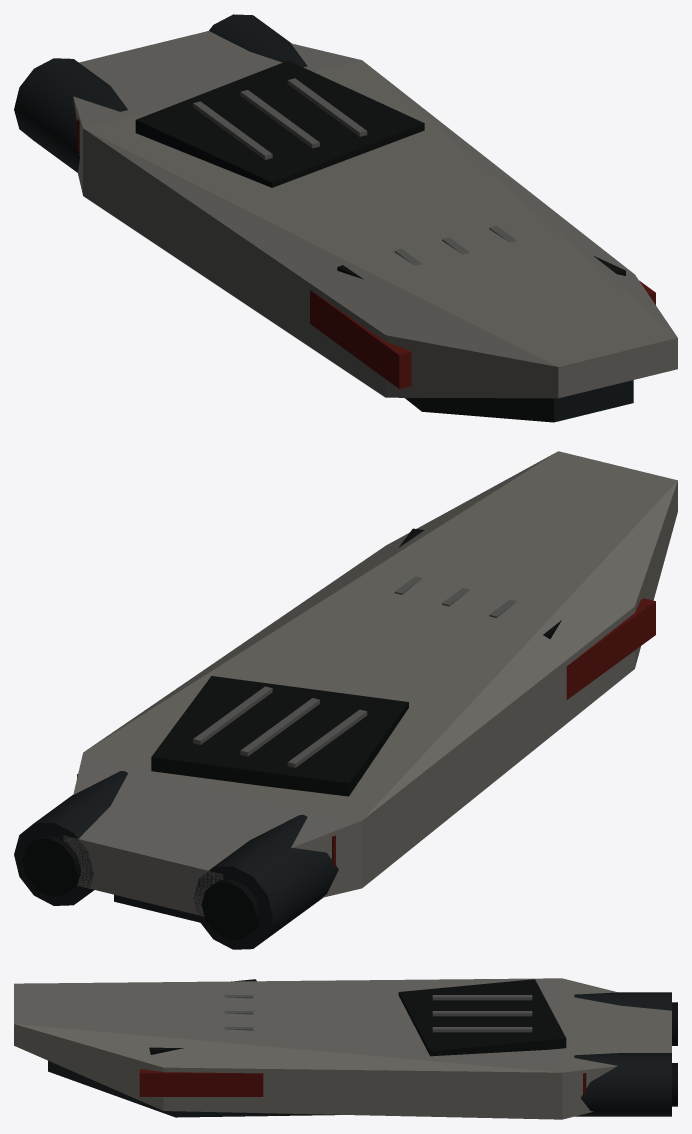
3 renders of one model, top to bottom at view 1: azimuth 30°, elevation 25°; view 2: azimuth 150°, elevation 25°; view 3: azimuth 270°, elevation 25°, orthographic. The views are drawn at different scales.
Parts seen in each view (by area): view 1: hoverboard-fleet-armor, hoverboard-fleet-rubber, hoverboard-fleet-machine, hoverboard-fleet-red, hoverboard-fleet-edge; view 2: hoverboard-fleet-armor, hoverboard-fleet-rubber, hoverboard-fleet-machine, hoverboard-fleet-red, hoverboard-fleet-edge; view 3: hoverboard-fleet-armor, hoverboard-fleet-rubber, hoverboard-fleet-machine, hoverboard-fleet-red, hoverboard-fleet-edge.
Boxes of the visible parts, x1,y1,x2,y2 form: hoverboard-fleet-armor: (73,31,677,398); hoverboard-fleet-rubber: (135,60,625,279); hoverboard-fleet-machine: (14,14,633,422); hoverboard-fleet-red: (77,119,655,388); hoverboard-fleet-edge: (193,78,516,265); hoverboard-fleet-armor: (63,451,677,916); hoverboard-fleet-rubber: (22,528,561,939); hoverboard-fleet-machine: (14,771,338,949); hoverboard-fleet-red: (77,598,655,866); hoverboard-fleet-edge: (193,576,517,767); hoverboard-fleet-armor: (14,978,671,1119); hoverboard-fleet-rubber: (149,979,677,1106); hoverboard-fleet-machine: (48,992,671,1117); hoverboard-fleet-red: (139,1069,586,1096); hoverboard-fleet-edge: (224,995,532,1032).
Size of the model in its own units: 2.92 by 1.25 by 8.68.
